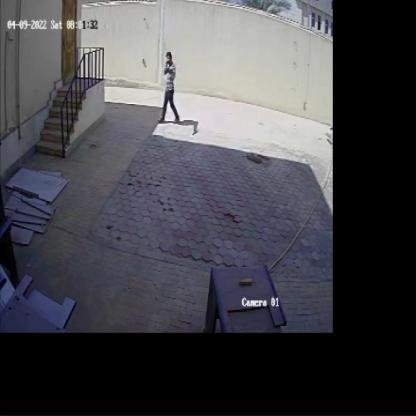handgun: (163, 65, 177, 78)
